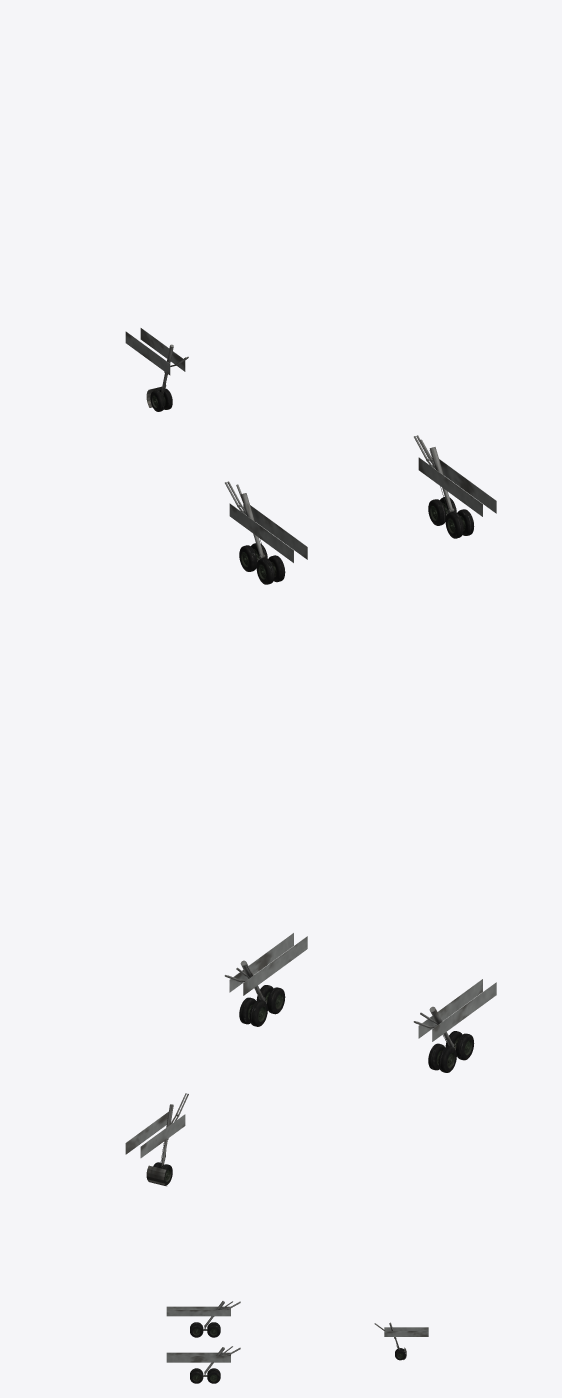
File: tu22_gear.glb
3 renders of one model, top to bottom at view 1: azimuth 30°, elevation 25°; view 2: azimuth 150°, elevation 25°; view 3: azimuth 270°, elevation 25°, orthographic. The views are drawn at different scales.
Parts seen in each view (by area): view 1: gear_w_l, gear_w_r, gdoor_m_l_o, gdoor_m_r_i, gdoor_m_l_i, gdoor_m_r_o; view 2: gear_w_r, gear_w_l, gdoor_m_l_o, gdoor_m_r_i, gdoor_m_l_i, gdoor_m_r_o, gear_n; view 3: gdoor_m_r_o, gdoor_m_l_i, gear_w_l, gear_w_r, gdoor_n_r, gdoor_m_l_o, gdoor_m_r_i.
Boxes of the visible parts, <box> form: gear_w_l: <box>239,543,285,584</box>; gear_w_r: <box>428,497,474,538</box>; gdoor_m_l_o: <box>229,503,293,562</box>; gdoor_m_r_i: <box>418,457,482,516</box>; gdoor_m_l_i: <box>243,504,307,559</box>; gdoor_m_r_o: <box>432,459,496,513</box>; gear_w_r: <box>239,985,285,1026</box>; gear_w_l: <box>428,1031,474,1072</box>; gdoor_m_l_o: <box>432,982,496,1041</box>; gdoor_m_r_i: <box>243,936,307,995</box>; gdoor_m_l_i: <box>418,979,482,1038</box>; gdoor_m_r_o: <box>229,933,293,992</box>; gear_n: <box>146,1093,188,1186</box>; gdoor_m_r_o: <box>166,1356,230,1362</box>; gdoor_m_l_i: <box>166,1310,230,1316</box>; gear_w_l: <box>190,1322,220,1337</box>; gear_w_r: <box>190,1368,220,1383</box>; gdoor_n_r: <box>384,1331,428,1336</box>; gdoor_m_l_o: <box>166,1306,230,1309</box>; gdoor_m_r_i: <box>166,1352,230,1355</box>.
Bounding box in the file's own units: 9.31 × 12.37 × 41.6.
1 material, 1 textured.
